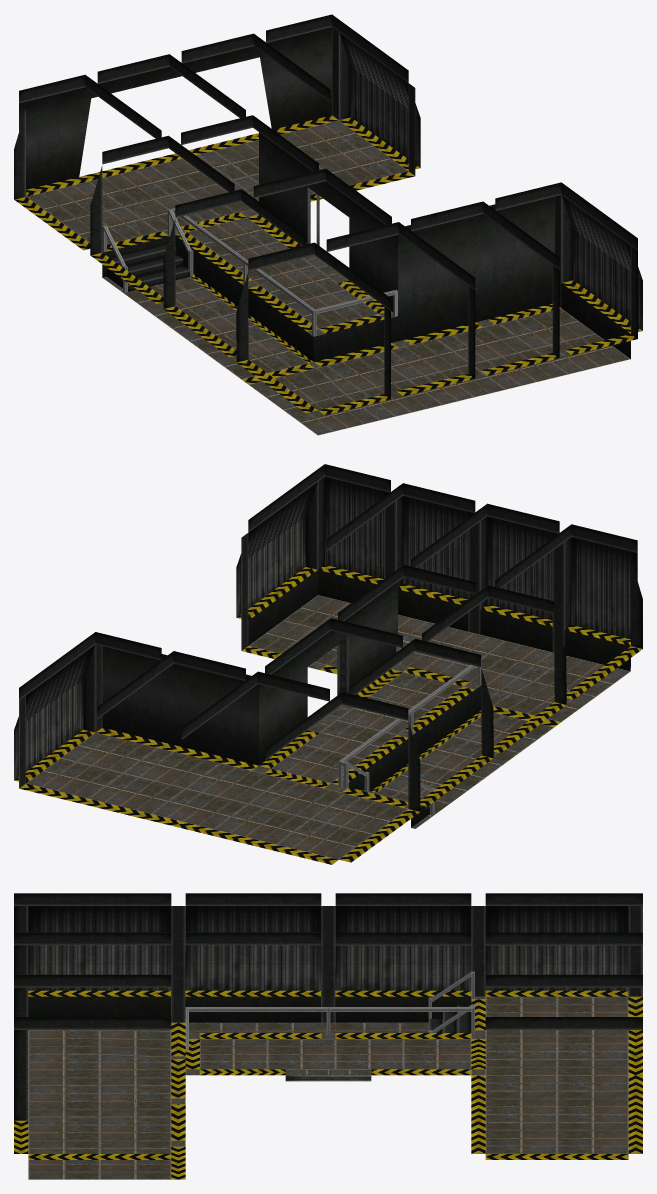
Rendered from OrdnanceDepotInt.glb.
The picture shows the model from 3 angles, top to bottom: view 1: azimuth 30°, elevation 25°; view 2: azimuth 150°, elevation 25°; view 3: azimuth 270°, elevation 25°; orthographic projection. The views are drawn at different scales.
Visible parts, largest first — view 1: ORDNANCEDEPOTINT; view 2: ORDNANCEDEPOTINT; view 3: ORDNANCEDEPOTINT.
Part boxes in pixels (bbox=[...]): ORDNANCEDEPOTINT: bbox=[14, 14, 642, 435]; ORDNANCEDEPOTINT: bbox=[14, 464, 642, 864]; ORDNANCEDEPOTINT: bbox=[14, 893, 642, 1179].
Size of the model in its own units: 14 by 5 by 22.
Materials: 10 (10 with a texture image).
